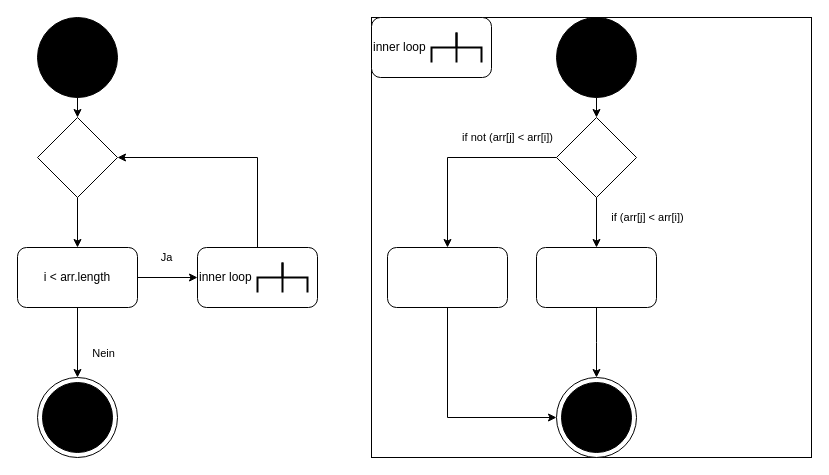
Some shapes in this 829 by 475 pixel diagram are drawn without their labels. The centre of each missing label's shape, as x and y in pixels:
j += 1: (x=447, y=277)
Mach dinge: (x=596, y=277)
